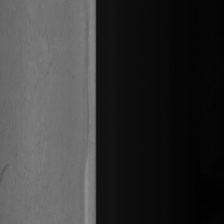water_spot: (1, 156, 12, 192)
